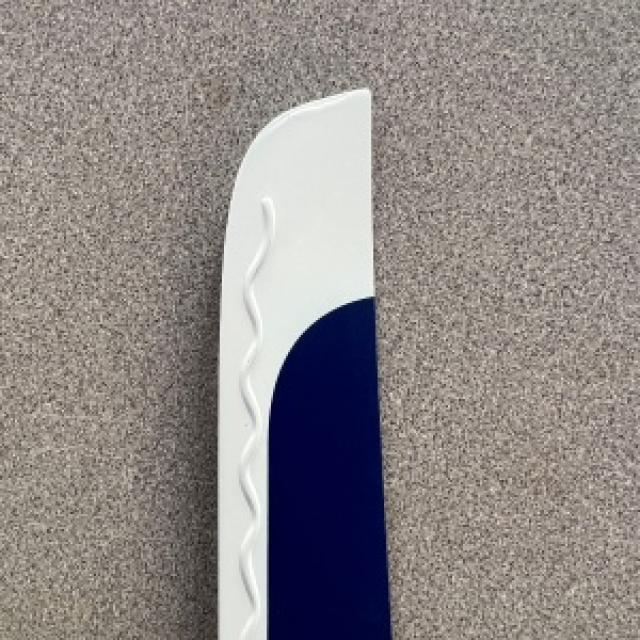healthy: (218, 90, 388, 638)
